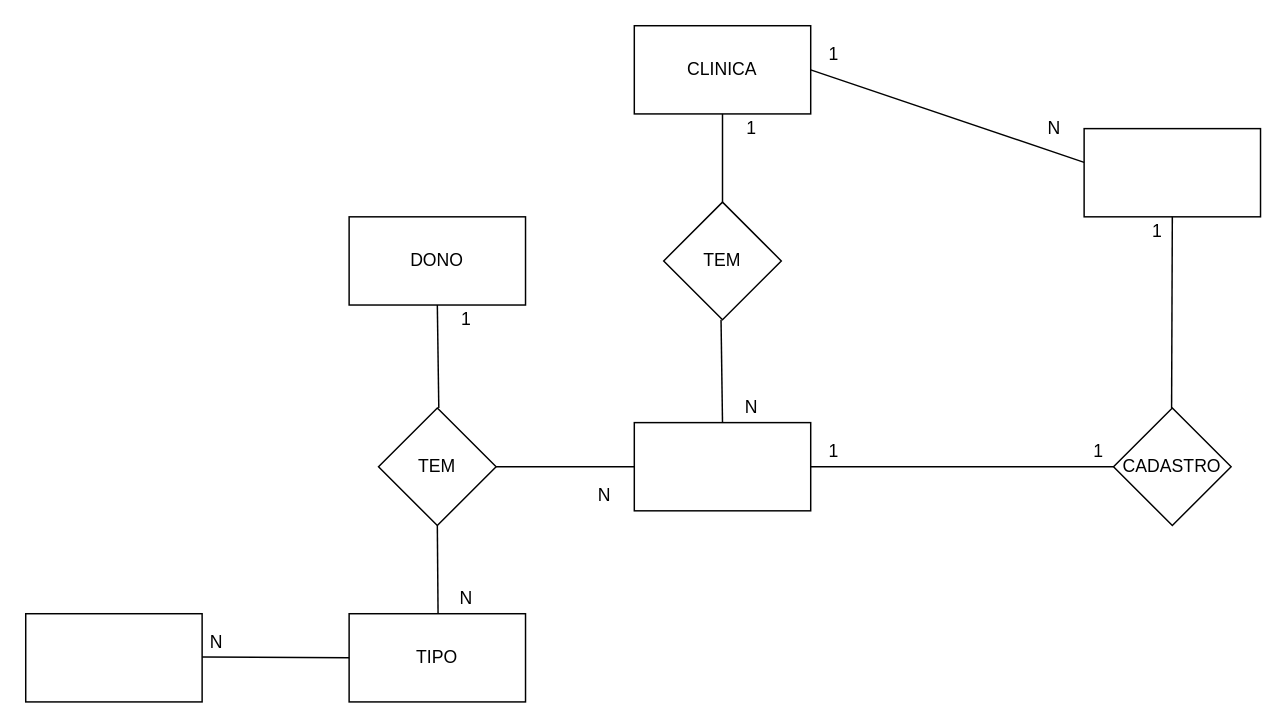
Image size: 1286x728. Some labels were removed from this diagram. The shapes that lost their labels are listed below. From the top down, each one's centre as x and y in pixels, then its label:
At [1172,172]: "VETERINARIO".
At [722,466]: "PETS".
At [113,657]: "RAÇA".
